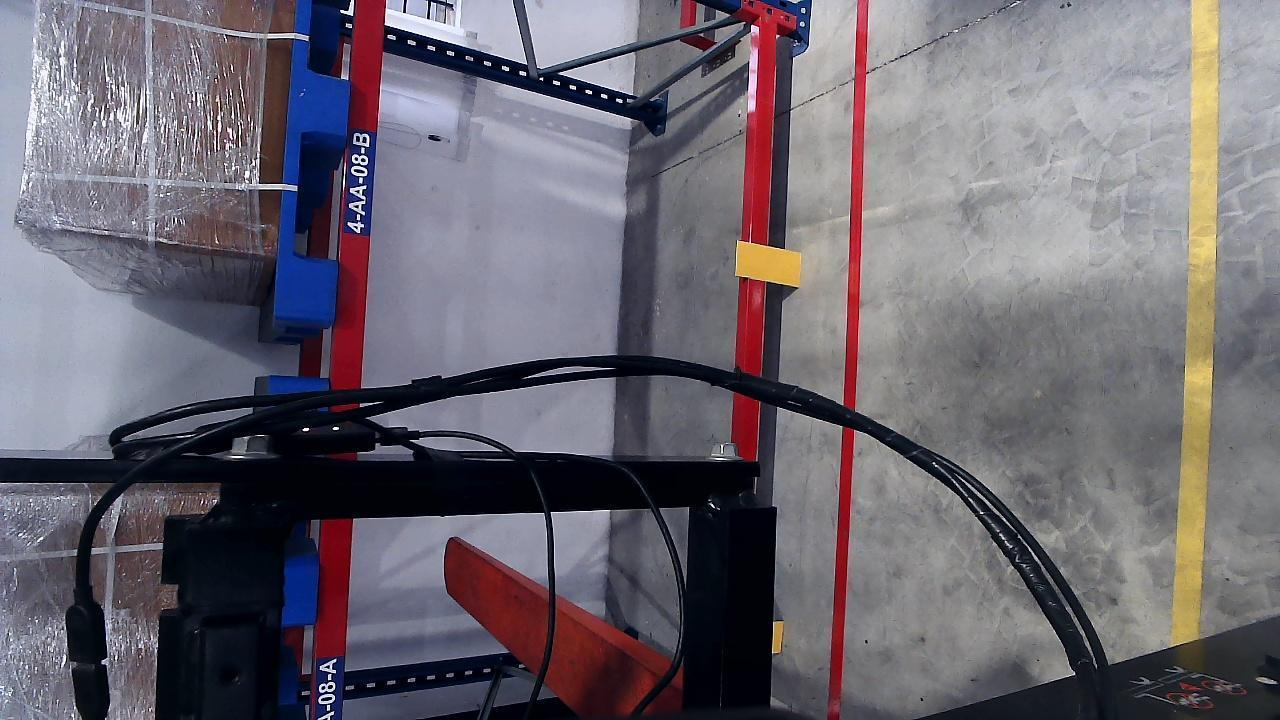red_line: (830, 3, 868, 715)
yellow_line: (1160, 4, 1219, 649)
